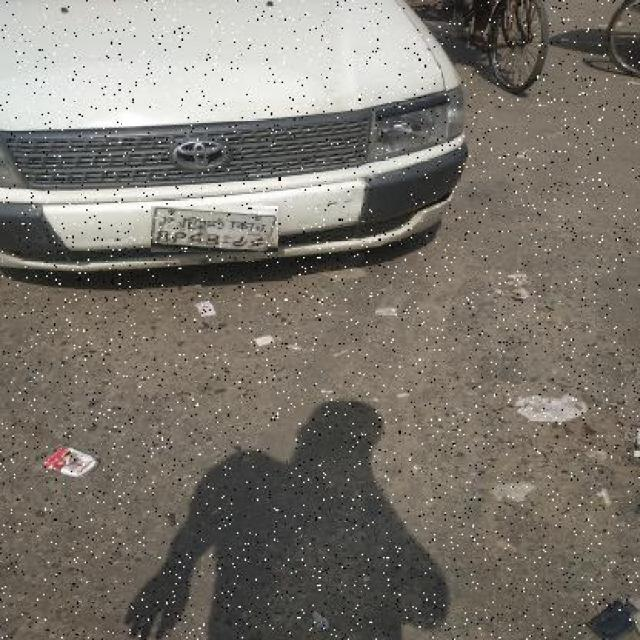numberplate: (151, 206, 278, 252)
